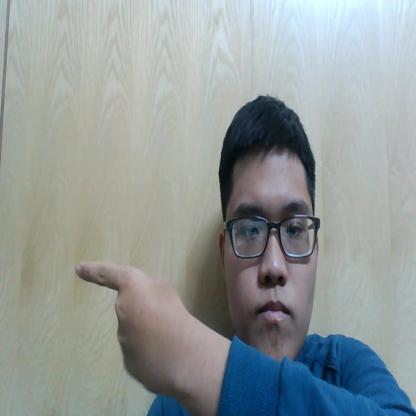right: (61, 245, 208, 407)
